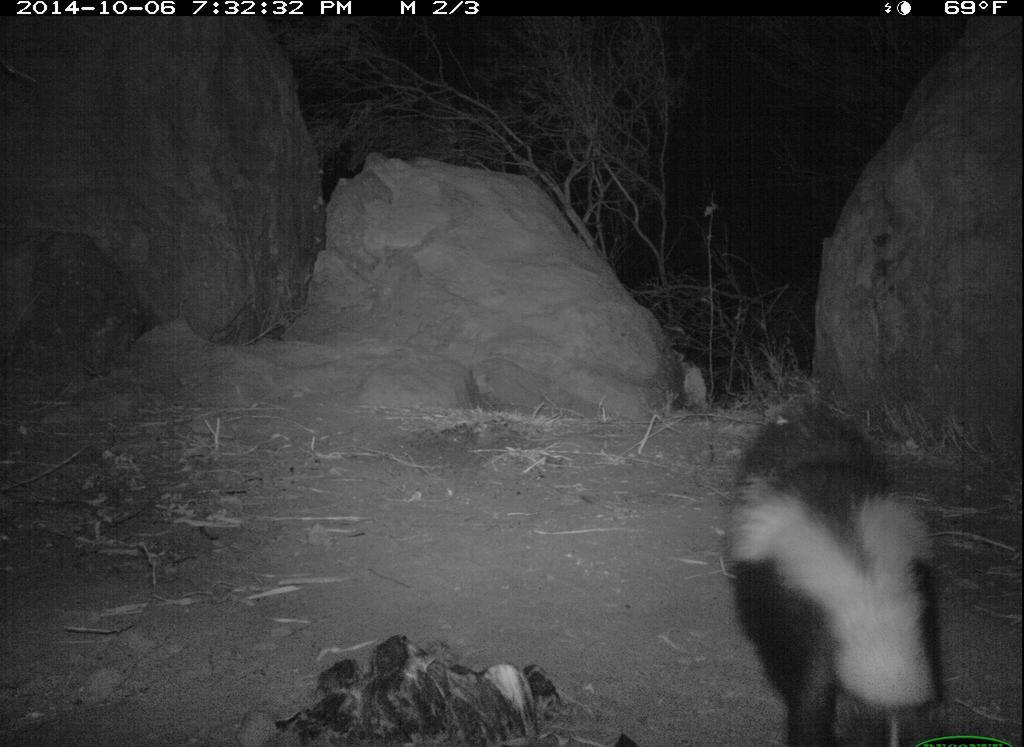skunk: (708, 387, 972, 747)
